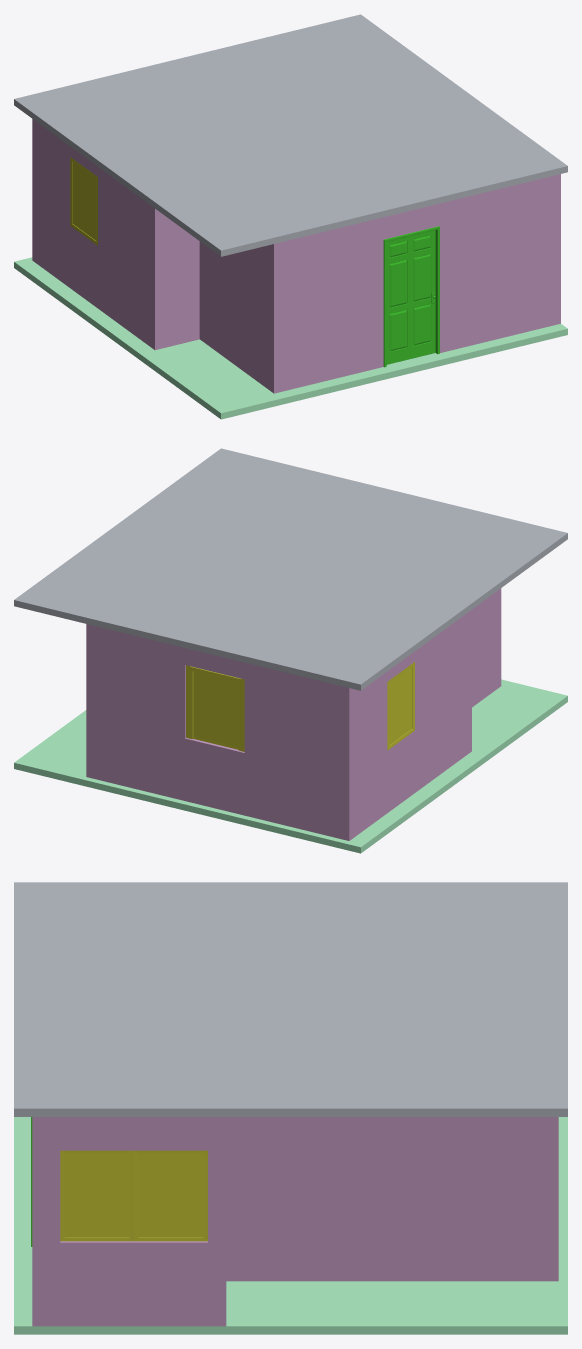
File: FloorPlan2_physics.fbx
The picture shows the model from 3 angles, top to bottom: view 1: azimuth 30°, elevation 25°; view 2: azimuth 150°, elevation 25°; view 3: azimuth 270°, elevation 25°; orthographic projection. The views are drawn at different scales.
Parts seen in each view (by area): view 1: Ceiling, StandardWallSize, Floor, StandardDoor1, polySurface1, StandardDoorFrame1, StandardWindow1; view 2: Ceiling, StandardWallSize, Floor, polySurface2, polySurface1, WindowTreatment2, WindowTreatment1, StandardWindow1; view 3: Ceiling, StandardWallSize, Floor, polySurface3, StandardWindow1 (2), StandardWindow1 (3).
Part boxes in pixels (x1=…): Ceiling: x1=14, y1=14, x2=567, y2=256; StandardWallSize: x1=32, y1=119, x2=560, y2=393; Floor: x1=14, y1=257, x2=567, y2=419; StandardDoor1: x1=386, y1=230, x2=435, y2=364; polySurface1: x1=72, y1=162, x2=96, y2=240; StandardDoorFrame1: x1=383, y1=226, x2=439, y2=367; StandardWindow1: x1=70, y1=157, x2=97, y2=245; Ceiling: x1=14, y1=448, x2=567, y2=690; StandardWallSize: x1=86, y1=588, x2=501, y2=840; Floor: x1=14, y1=679, x2=567, y2=853; polySurface2: x1=194, y1=671, x2=238, y2=746; polySurface1: x1=389, y1=667, x2=412, y2=745; WindowTreatment2: x1=189, y1=666, x2=242, y2=750; WindowTreatment1: x1=186, y1=665, x2=244, y2=751; StandardWindow1: x1=387, y1=662, x2=414, y2=750; Ceiling: x1=14, y1=882, x2=567, y2=1116; StandardWallSize: x1=32, y1=1117, x2=558, y2=1326; Floor: x1=14, y1=1117, x2=567, y2=1334; polySurface3: x1=64, y1=1153, x2=203, y2=1236; StandardWindow1 (2): x1=134, y1=1150, x2=207, y2=1241; StandardWindow1 (3): x1=60, y1=1150, x2=133, y2=1241.
Bounding box in the file's own units: 580 × 270 × 600.
